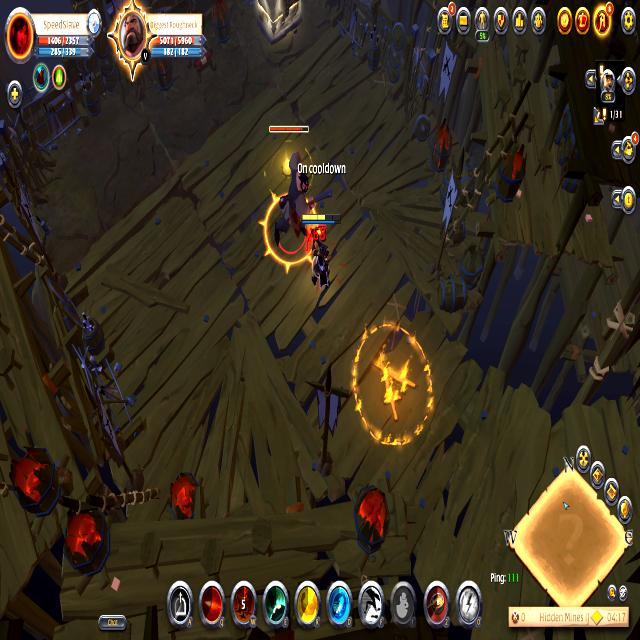ore: (259, 119, 326, 273)
red: (298, 202, 342, 304)
